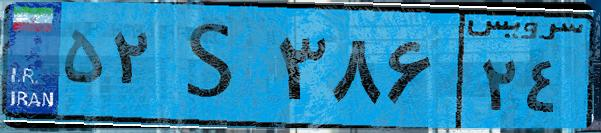2: (475, 38, 525, 113), (110, 28, 158, 98)
3: (270, 28, 330, 110)
4: (525, 38, 570, 115)
5: (57, 26, 110, 100)
6: (385, 28, 445, 110)
8: (330, 28, 385, 110)
S: (158, 12, 270, 120)
